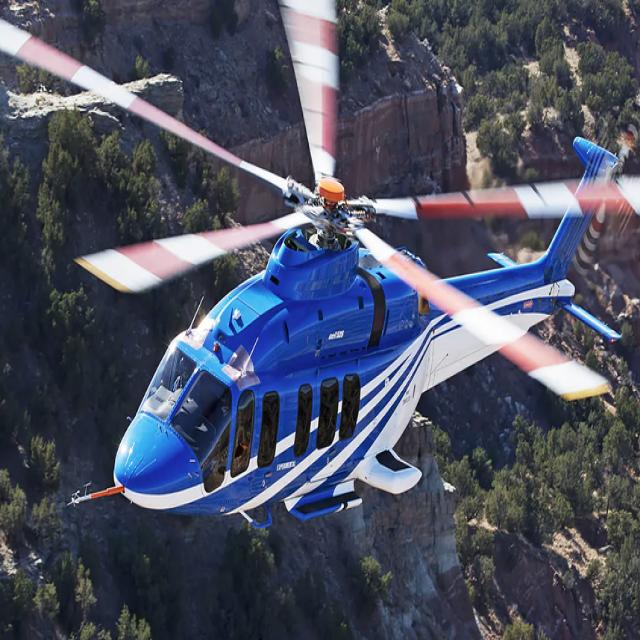helicopter: (69, 1, 640, 550)
